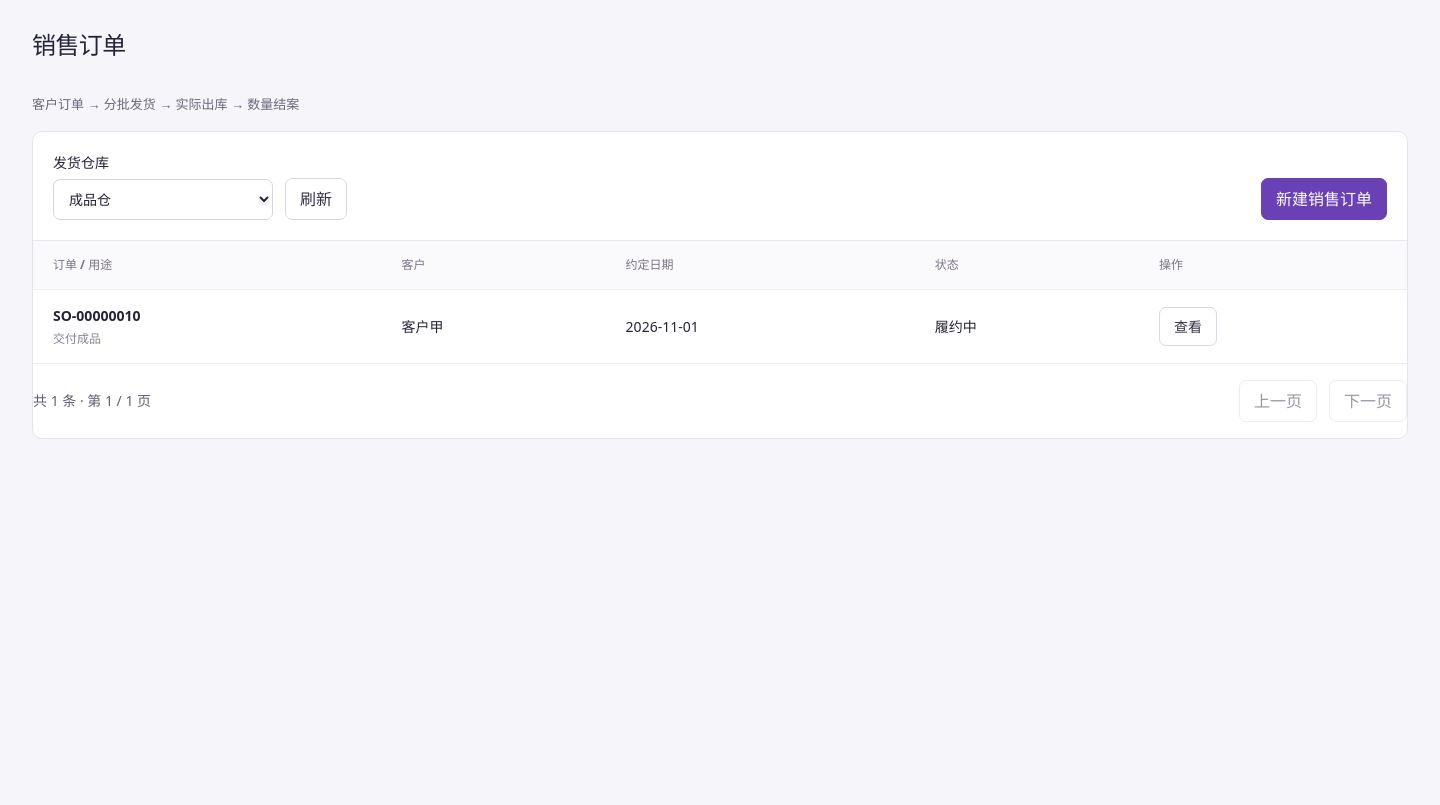
Test: never offers closure while actual shipped quantity is incomplete
Click the button "查看": x=1188, y=326 x1=1159 y1=306 x2=1217 y2=346
(page scrolled)
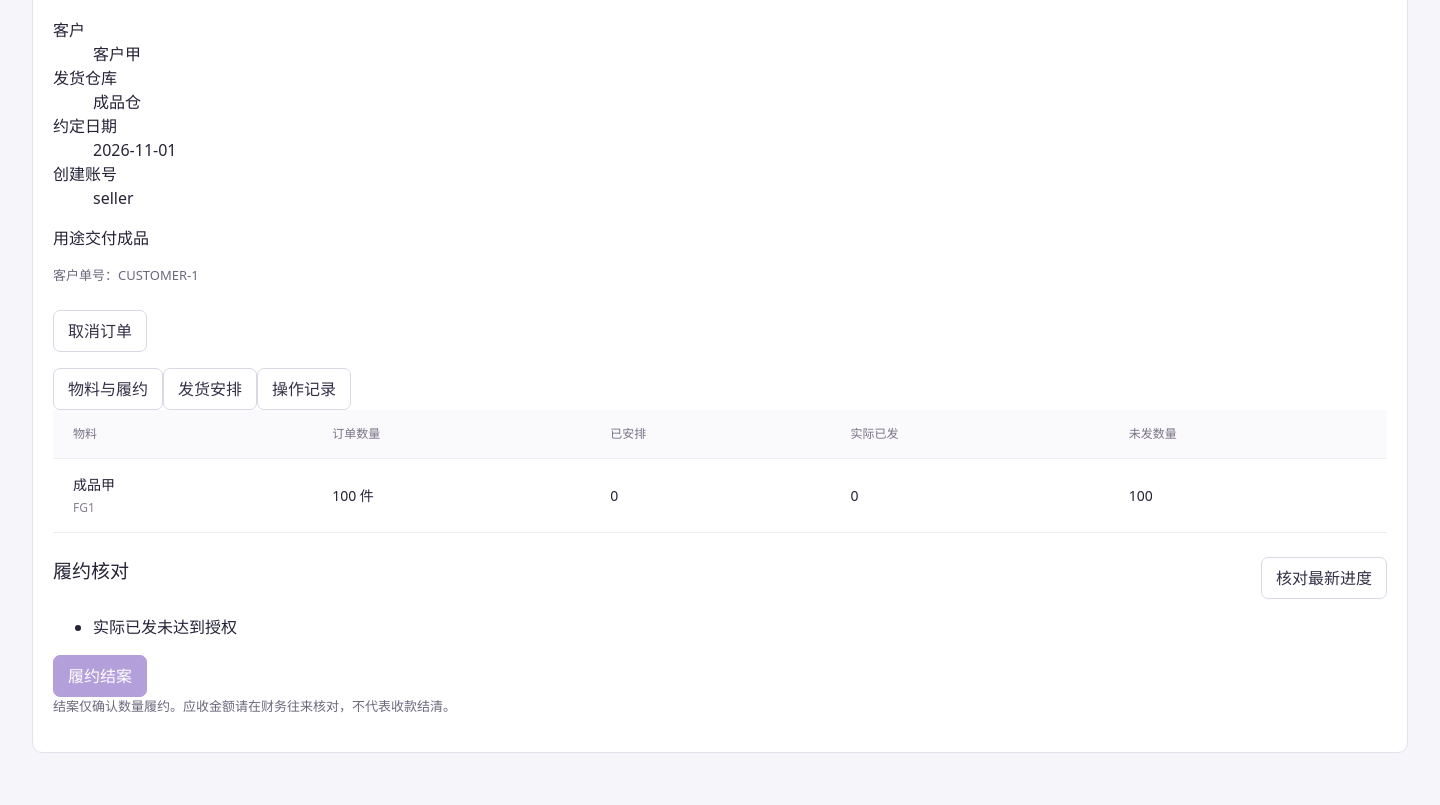
Check: the button "履约结案" is disabled, box x1=53 y1=654 x2=147 y2=696
Check: the text "实际已发未达到授权" is shown, box x1=93 y1=616 x2=237 y2=638
